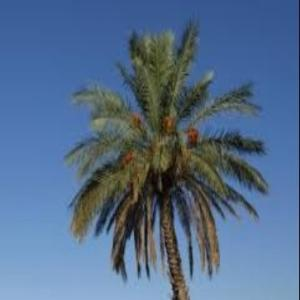palm tree: (64, 15, 268, 299)
